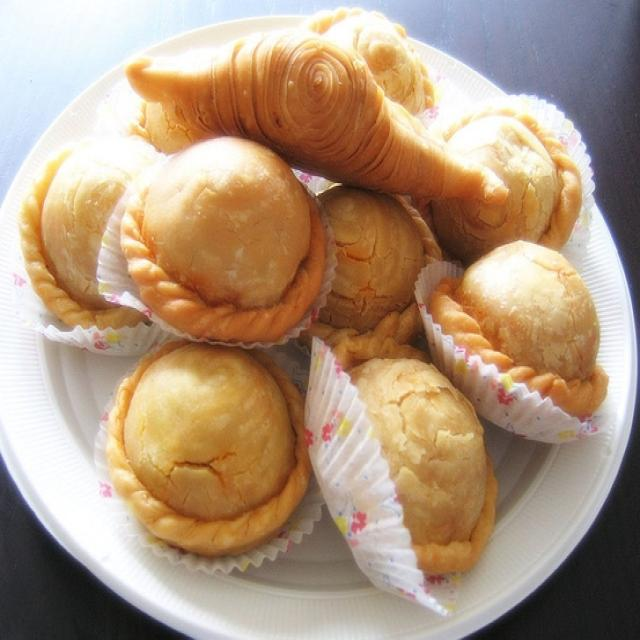炸货点心: (28, 25, 605, 599)
